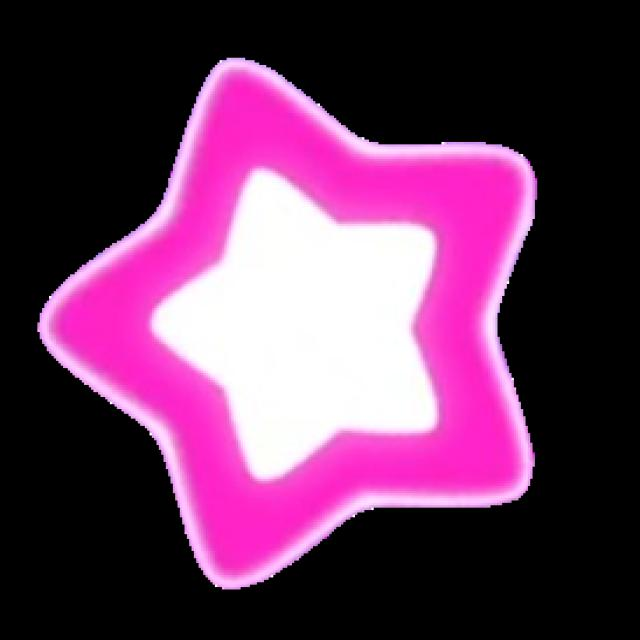Sustained - Star: (35, 53, 540, 589)
